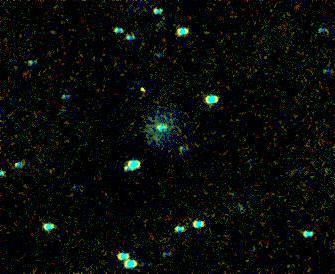star: (127, 74, 157, 104)
